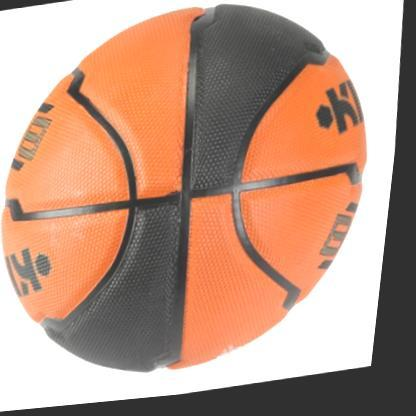basketball: (0, 0, 397, 401)
